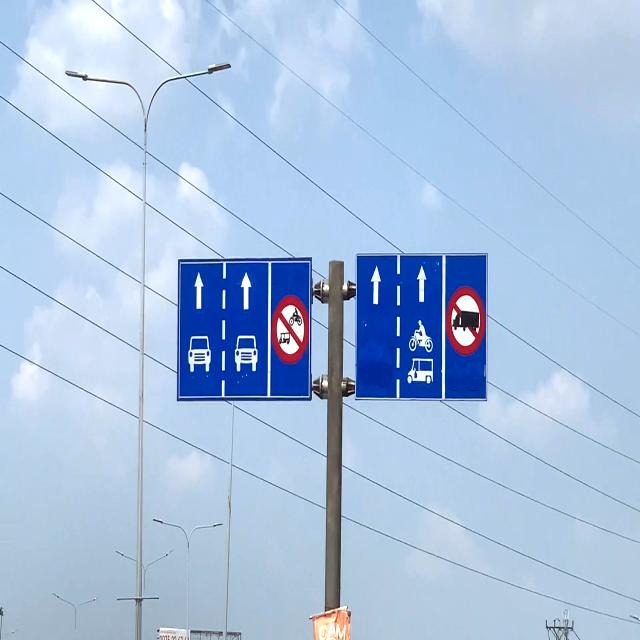P.106a: (445, 284, 486, 358)
